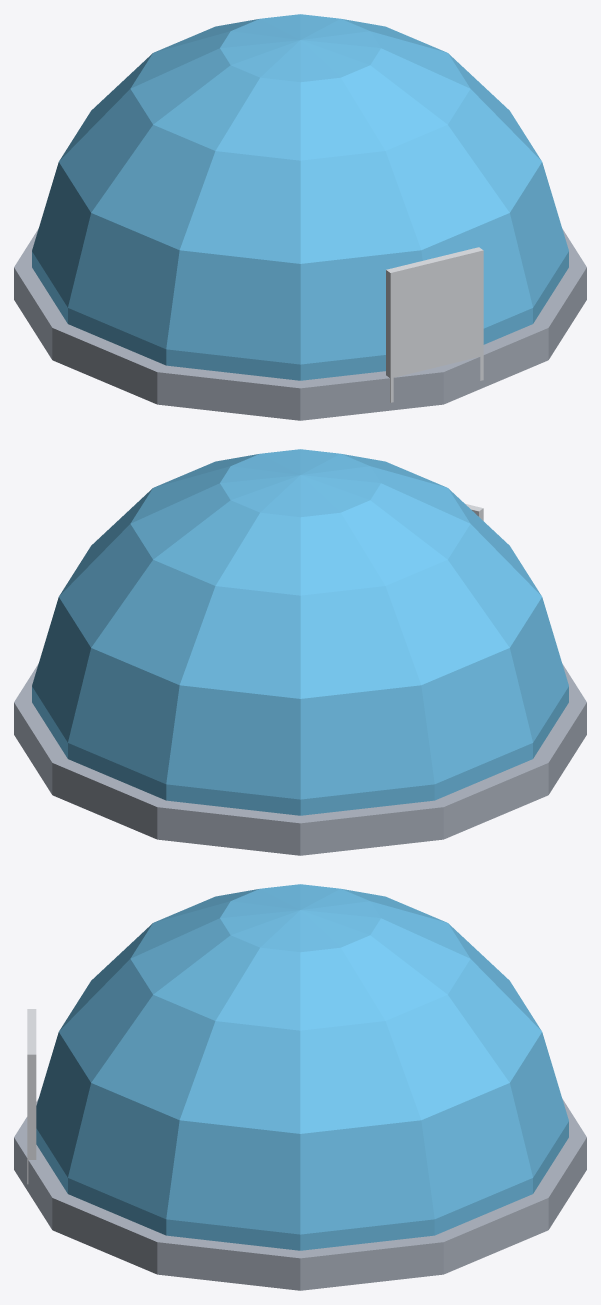
The model's file is lunar-dome-habitat.glb.
3 views of the same model, one above another, from view 1: azimuth 30°, elevation 25°; view 2: azimuth 150°, elevation 25°; view 3: azimuth 270°, elevation 25° (orthographic).
Parts seen in each view (by area): view 1: dome_habitat; view 2: dome_habitat; view 3: dome_habitat.
Boxes of the visible parts, x1,y1,x2,y2 form: dome_habitat: [14, 14, 586, 420]; dome_habitat: [14, 449, 586, 855]; dome_habitat: [14, 884, 586, 1290].
Bounding box in the file's own units: 6.4 × 3.2 × 6.4.
